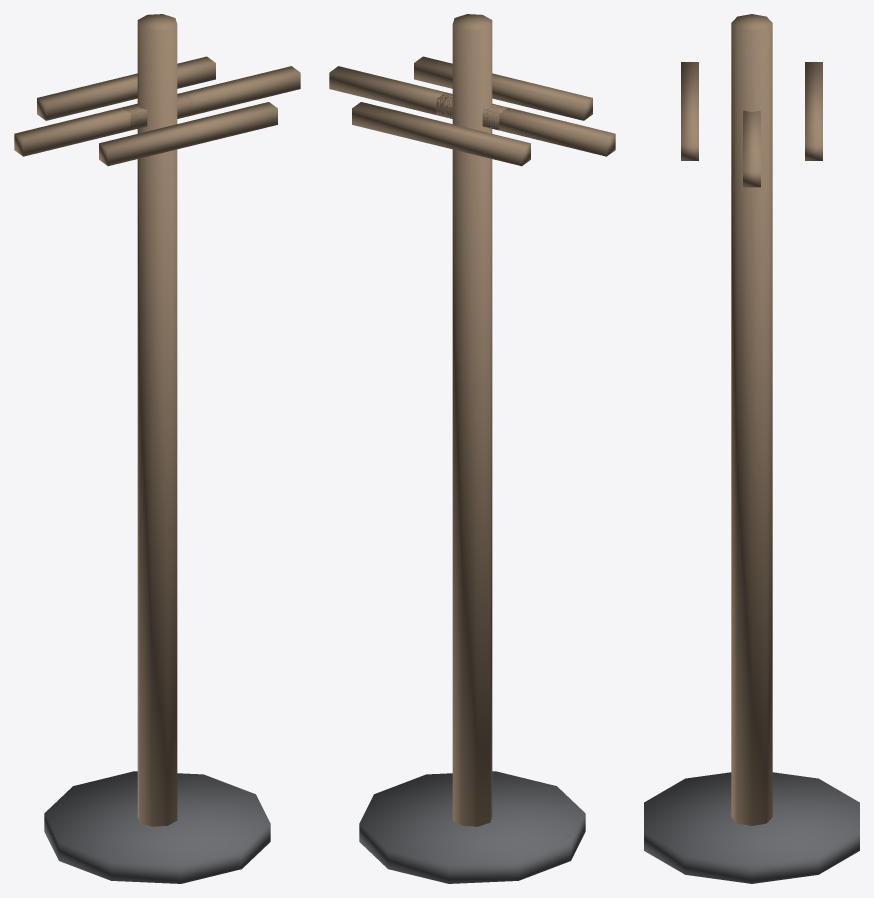
The model's file is coat_rack.glb.
3 renders of one model, left to right at view 1: azimuth 30°, elevation 25°; view 2: azimuth 150°, elevation 25°; view 3: azimuth 270°, elevation 25°, orthographic.
Parts seen in each view (by area): view 1: world; view 2: world; view 3: world.
Part boxes in pixels (x1,y1,x2,y2): world: (14,14,300,883); world: (329,14,615,883); world: (644,14,859,883).
Bounding box in the file's own units: 0.62 × 1.74 × 0.4185.
